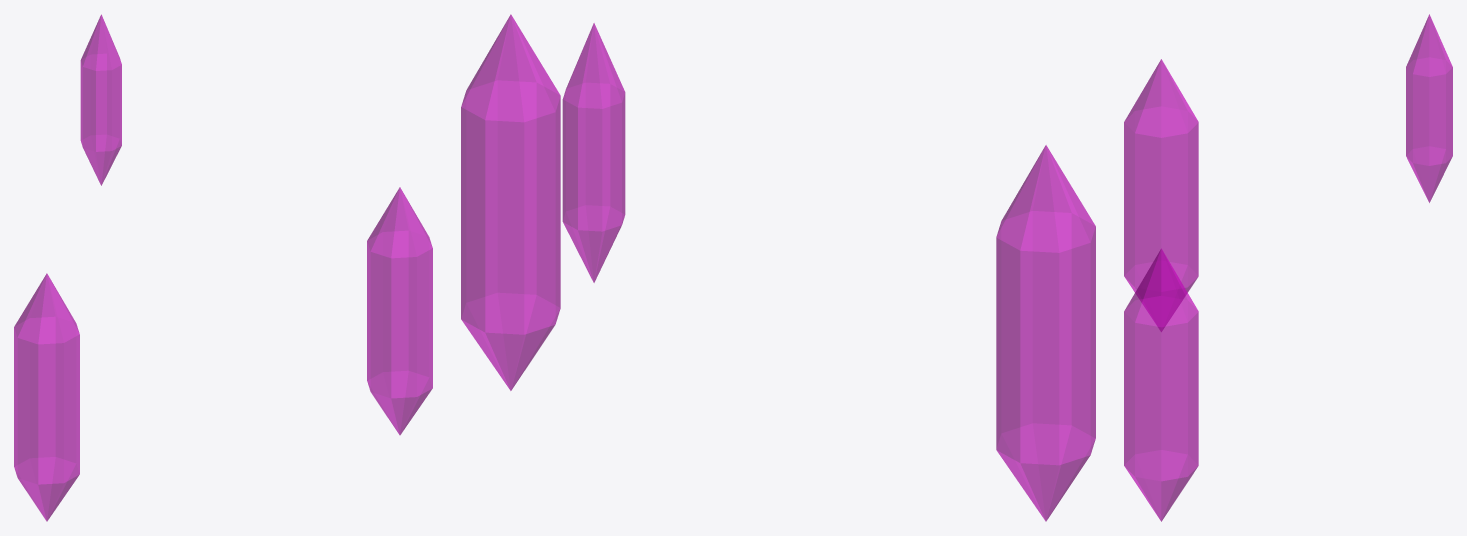
File: SM_Veh_Ship_L_Back_01_Lamp_01_Collision.fbx
The picture shows the model from 3 angles, left to right: view 1: azimuth 30°, elevation 25°; view 2: azimuth 150°, elevation 25°; view 3: azimuth 270°, elevation 25°; orthographic projection. The views are drawn at different scales.
Visible parts, largest first — view 1: SM_Veh_Ship_L_Back_01_Lamp_01_Collision; view 2: SM_Veh_Ship_L_Back_01_Lamp_01_Collision; view 3: SM_Veh_Ship_L_Back_01_Lamp_01_Collision.
Part boxes in pixels (left/top/right/bottom): SM_Veh_Ship_L_Back_01_Lamp_01_Collision: left=14, top=14, right=432, bottom=521; SM_Veh_Ship_L_Back_01_Lamp_01_Collision: left=461, top=14, right=1095, bottom=521; SM_Veh_Ship_L_Back_01_Lamp_01_Collision: left=1124, top=14, right=1452, bottom=521.
Bounding box in the file's own units: 1362 × 1188 × 857.
